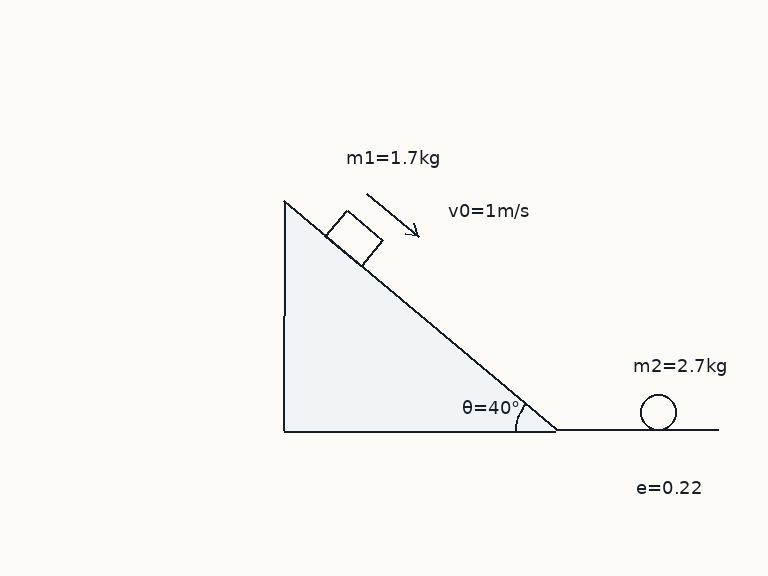ball: (638, 392, 678, 432)
block: (323, 208, 385, 268)
ramp: (281, 199, 558, 432)
